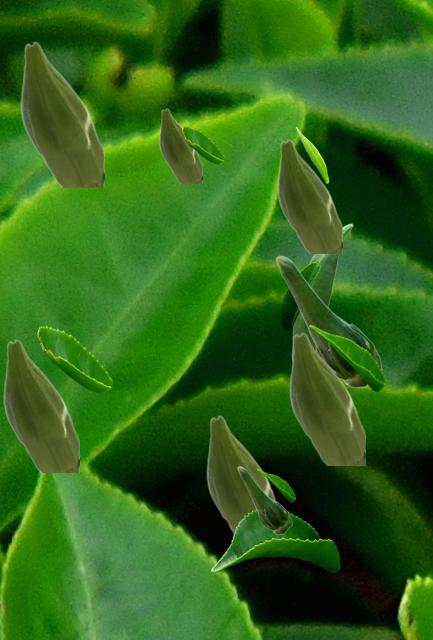okra: (275, 255, 381, 387), (20, 41, 103, 186), (3, 339, 78, 471), (289, 332, 364, 464), (291, 223, 352, 360), (206, 415, 276, 533), (277, 139, 341, 252), (237, 466, 291, 533), (159, 108, 201, 182)
